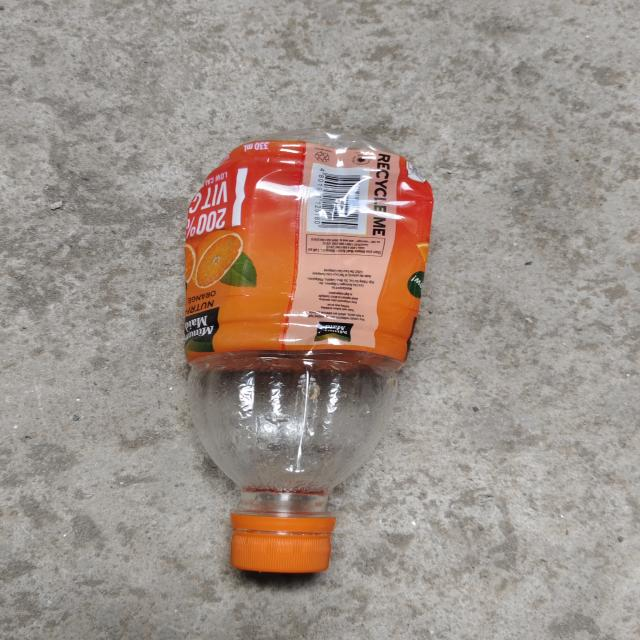Bottle: (185, 129, 433, 573)
